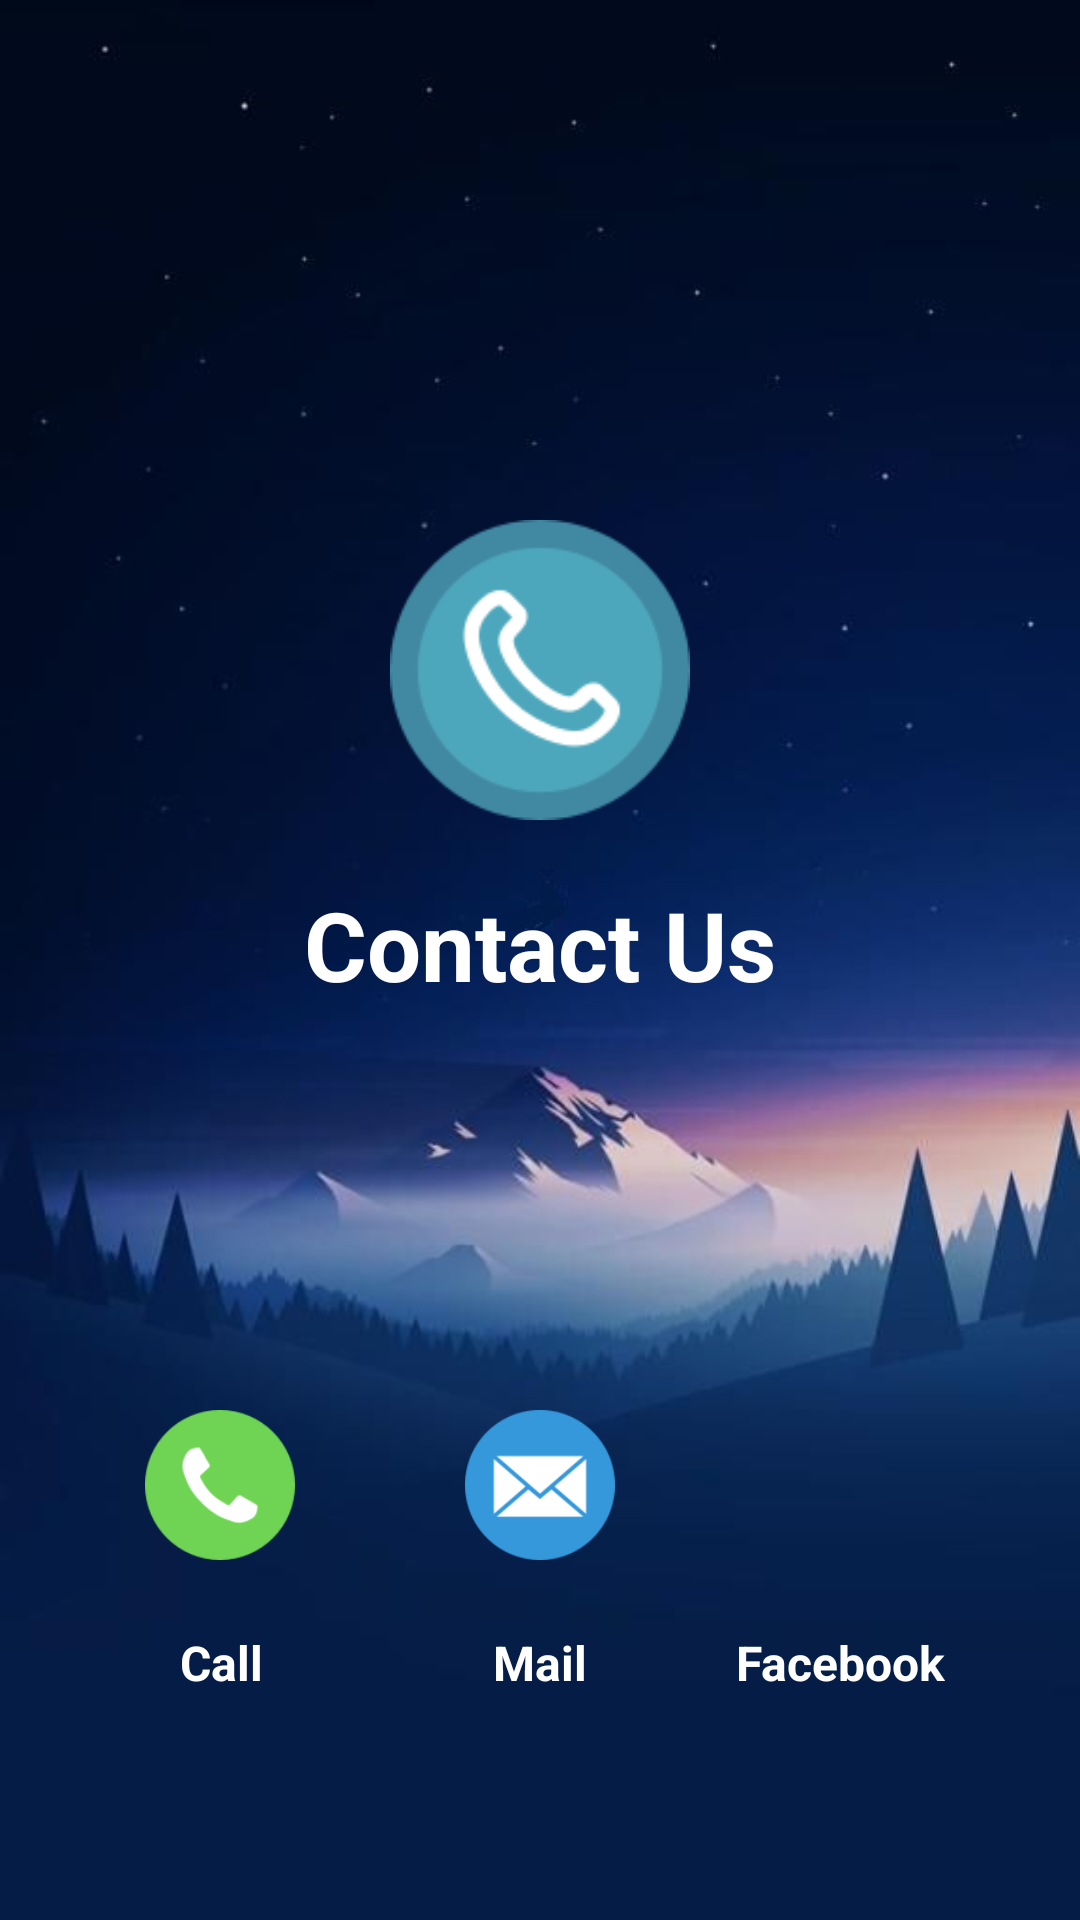

Where icons sit on this 1080w x 1920h app screen, as (x1, y1, x2, y2):
iconfinder phone: (390, 520, 690, 820), (145, 1410, 295, 1560)
